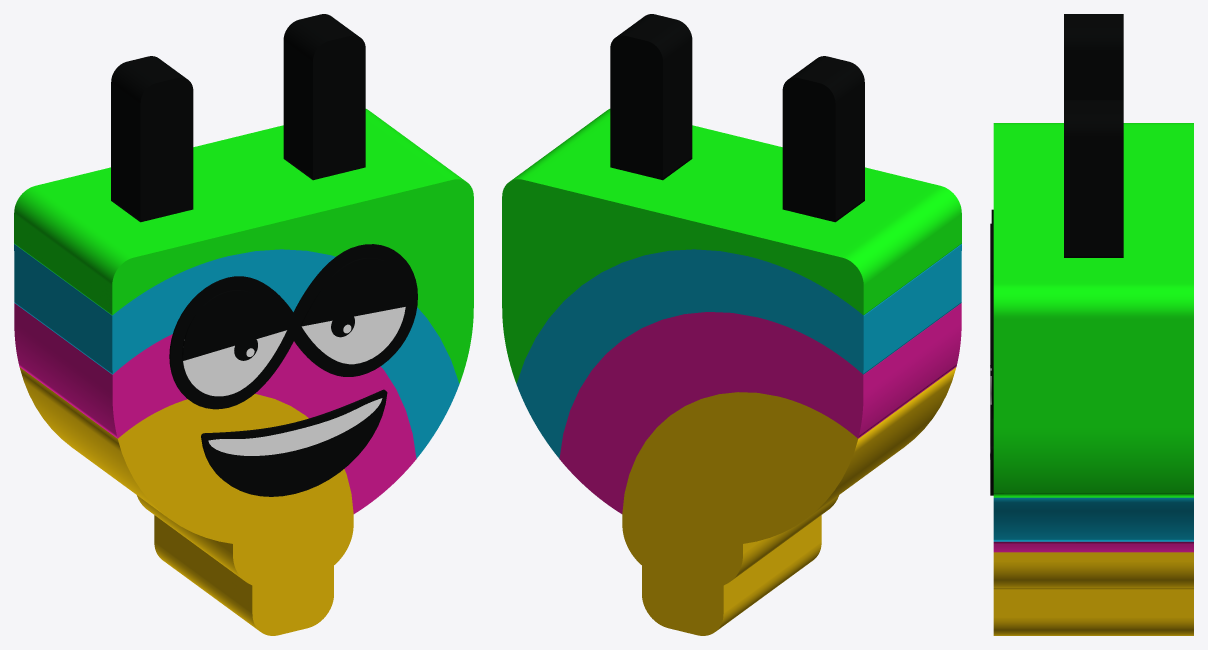
Rendered from plug-v2.obj.
3 renders of one model, left to right at view 1: azimuth 30°, elevation 25°; view 2: azimuth 150°, elevation 25°; view 3: azimuth 270°, elevation 25°, orthographic.
Parts seen in each view (by area): view 1: path992_path992.001, path1006, path1002_path1002.001, path1004_path1004.001, path1000_path1000.001, path998_path998.001, path1026_path1026.001, path1008_path1008.001, path1032_path1032.001, path1030_path1030.001, path1016_path1016.001, path1014_path1014.001 (+1 smaller); view 2: path992_path992.001, path1006, path1004_path1004.001, path1002_path1002.001, path1000_path1000.001, path998_path998.001; view 3: path992_path992.001, path1006, path1000_path1000.001, path1002_path1002.001, path998_path998.001, path1004_path1004.001, path1026_path1026.001, path1008_path1008.001.
Boxes of the visible parts, box(x1,y1,x2,y2) form: path992_path992.001: box(14, 109, 473, 383); path1006: box(19, 367, 353, 635); path1002_path1002.001: box(14, 244, 459, 458); path1004_path1004.001: box(14, 303, 416, 513); path1000_path1000.001: box(283, 14, 365, 180); path998_path998.001: box(111, 56, 193, 222); path1026_path1026.001: box(169, 244, 417, 409); path1008_path1008.001: box(201, 389, 387, 496); path1032_path1032.001: box(300, 258, 406, 326); path1030_path1030.001: box(182, 290, 287, 360); path1016_path1016.001: box(183, 330, 286, 396); path1014_path1014.001: box(301, 307, 405, 364); path992_path992.001: box(502, 109, 961, 383); path1006: box(622, 367, 956, 635); path1004_path1004.001: box(559, 303, 961, 513); path1002_path1002.001: box(516, 244, 961, 458); path1000_path1000.001: box(610, 14, 692, 180); path998_path998.001: box(782, 56, 864, 222); path992_path992.001: box(993, 123, 1193, 497); path1006: box(993, 552, 1193, 635); path1000_path1000.001: box(1064, 99, 1123, 257); path1002_path1002.001: box(993, 497, 1193, 541); path998_path998.001: box(1064, 14, 1123, 99); path1004_path1004.001: box(993, 541, 1193, 552); path1026_path1026.001: box(991, 209, 993, 419); path1008_path1008.001: box(990, 376, 993, 495).
Size of the model in its own units: 0.3864 by 0.5601 by 0.185.
